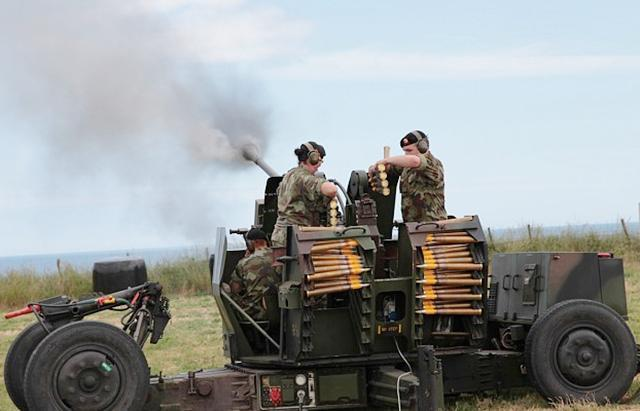MIL_SPG: (4, 146, 640, 411)
